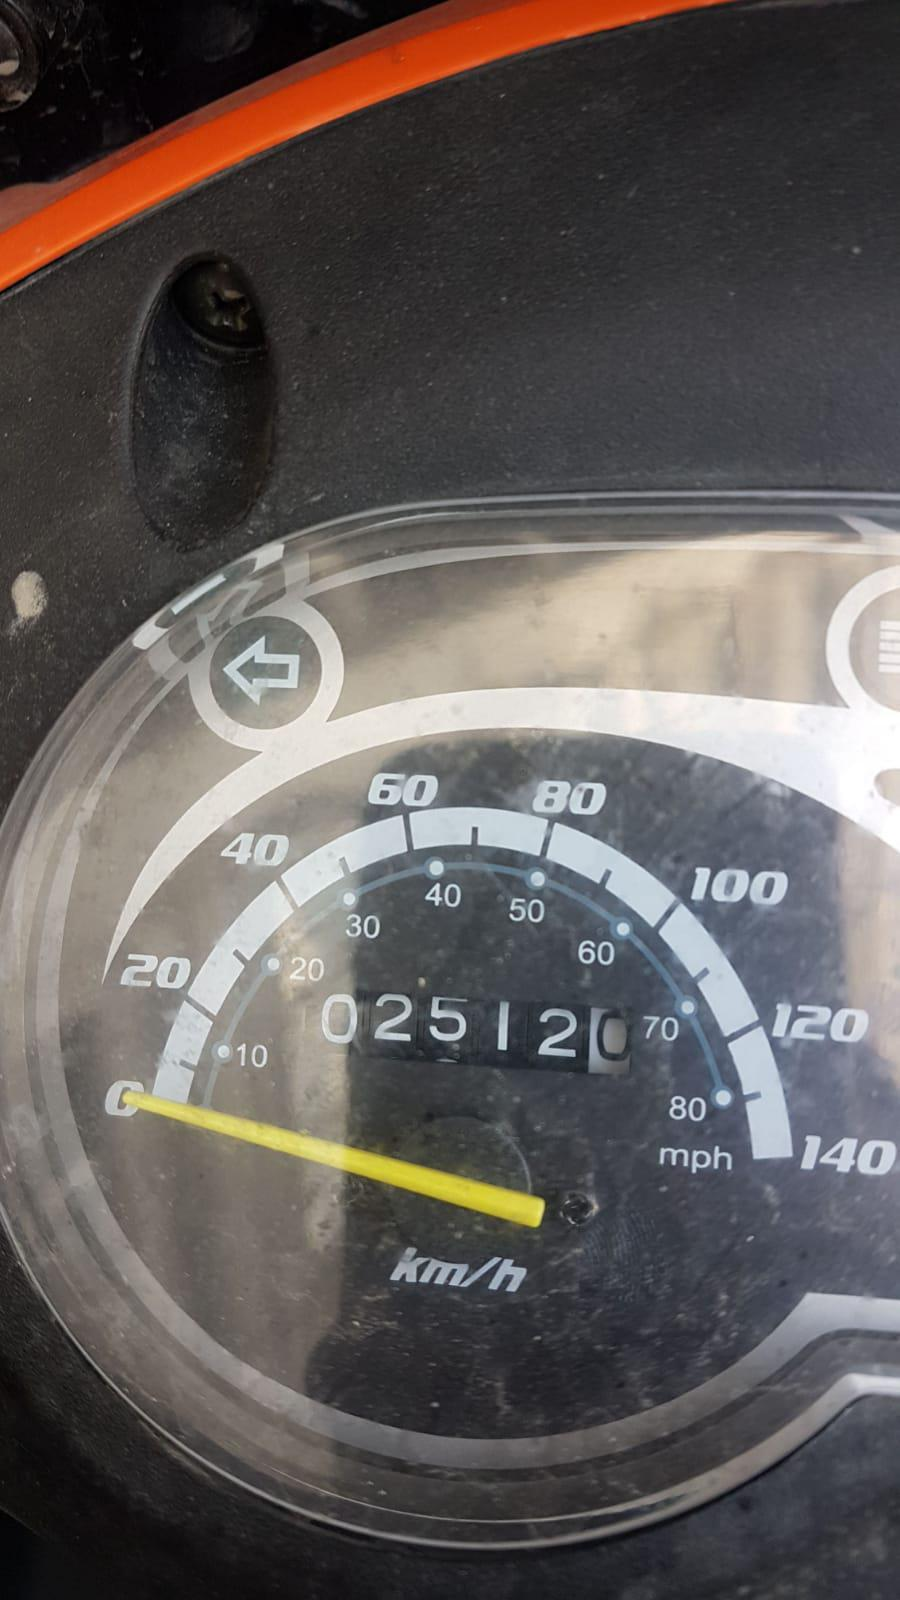0: (593, 1008, 635, 1064), (318, 992, 356, 1045)
1: (490, 995, 515, 1055)
2: (532, 1000, 581, 1062), (371, 988, 415, 1044)
5: (427, 992, 470, 1044)
odometer: (285, 981, 643, 1091)
